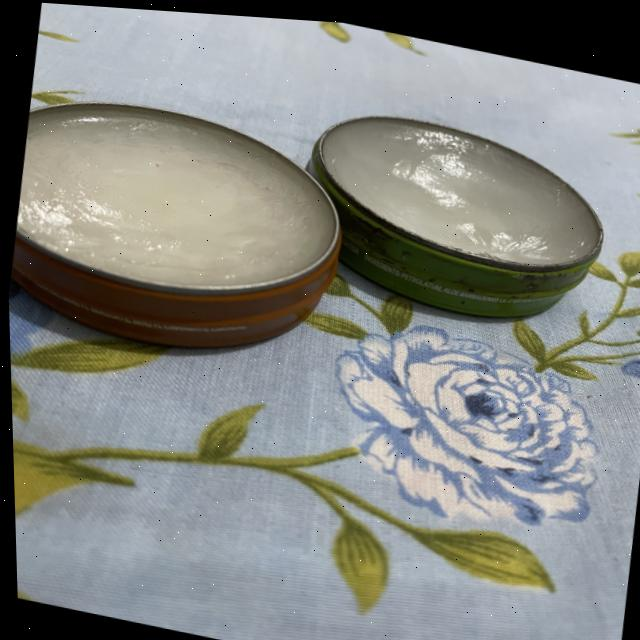lip balm: (1, 60, 367, 392), (299, 79, 640, 343)
